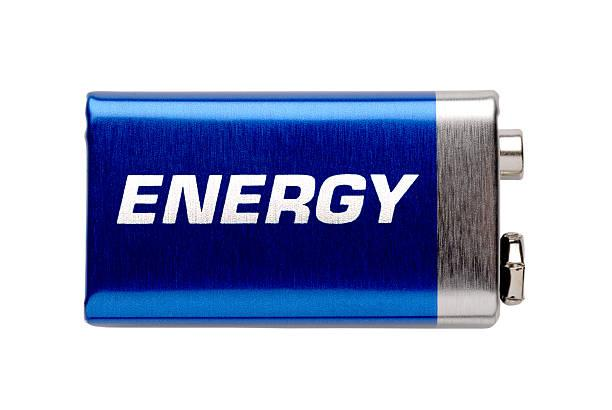9V Battery: (84, 90, 524, 331)
